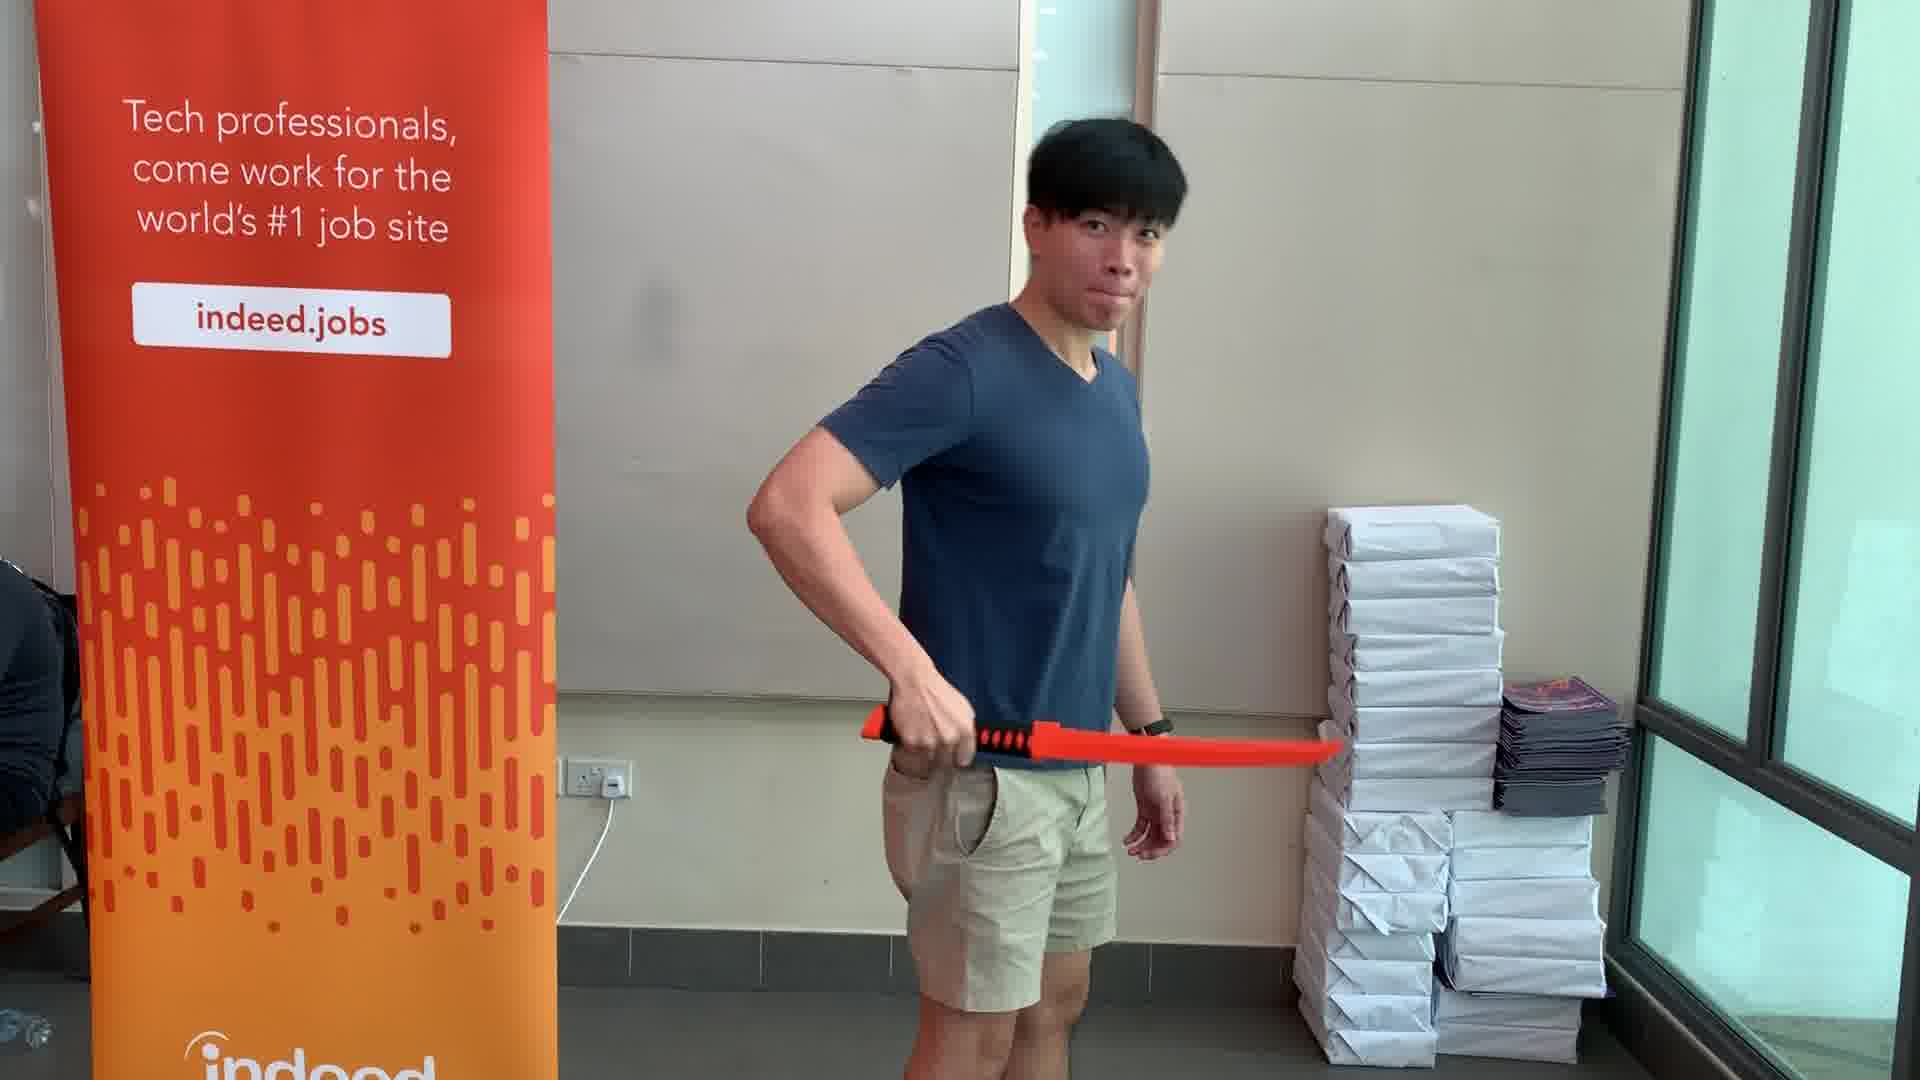knife: (853, 692, 1350, 777)
